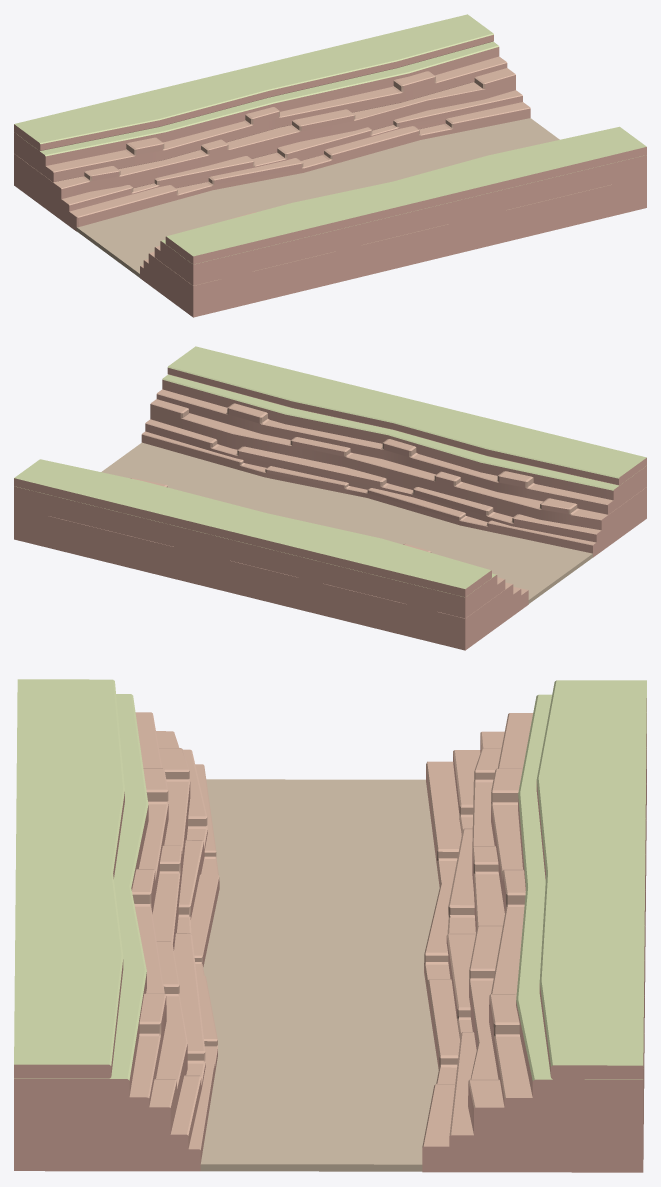
Rendered from road_environment_rodeo stampede2.fbx.
The picture shows the model from 3 angles, top to bottom: view 1: azimuth 30°, elevation 25°; view 2: azimuth 150°, elevation 25°; view 3: azimuth 270°, elevation 25°; orthographic projection. The views are drawn at different scales.
Parts seen in each view (by area): view 1: L_side, R_side, road_m; view 2: R_side, L_side, road_m; view 3: L_side, R_side, road_m.
Part boxes in pixels (bbox=[...]): L_side: bbox=[14, 14, 530, 231]; R_side: bbox=[140, 126, 646, 317]; road_m: bbox=[76, 118, 559, 277]; R_side: bbox=[141, 346, 646, 557]; L_side: bbox=[14, 459, 528, 650]; road_m: bbox=[101, 442, 592, 603]; L_side: bbox=[422, 680, 646, 1172]; R_side: bbox=[14, 679, 219, 1171]; road_m: bbox=[200, 779, 439, 1171].
Size of the model in its own units: 71.95 by 9.3 by 49.84.
